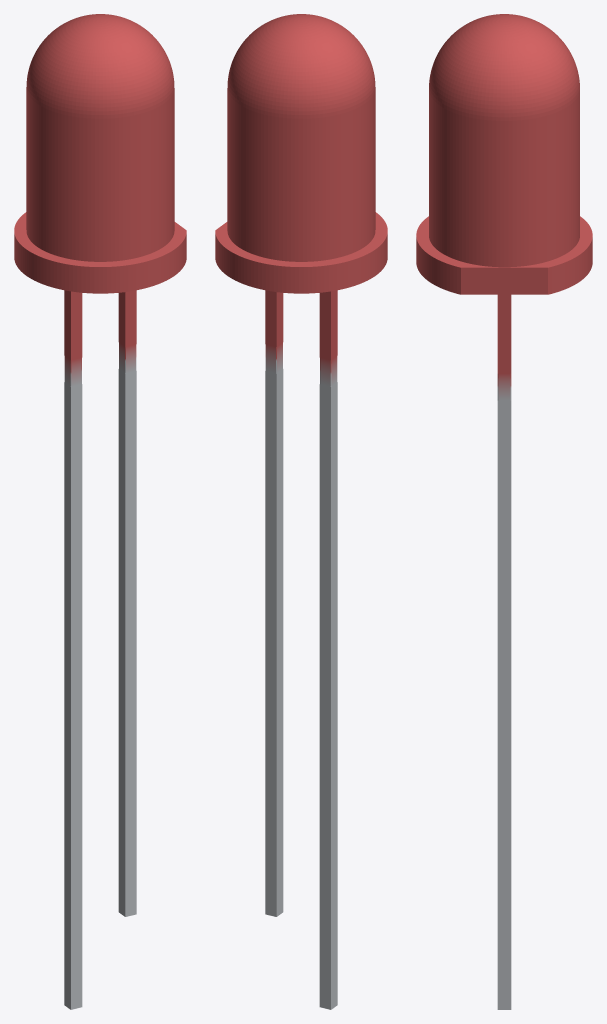
File: led_red.glb
3 renders of one model, left to right at view 1: azimuth 30°, elevation 25°; view 2: azimuth 150°, elevation 25°; view 3: azimuth 270°, elevation 25°, orthographic. The views are drawn at different scales.
Visible parts, largest first — view 1: led_red.glb; view 2: led_red.glb; view 3: led_red.glb.
Part boxes in pixels (<box>): led_red.glb: <box>14,14,186,1009</box>; led_red.glb: <box>215,14,387,1009</box>; led_red.glb: <box>416,14,592,1009</box>.
Bounding box in the file's own units: 0.0827 × 0.5535 × 0.0885.
